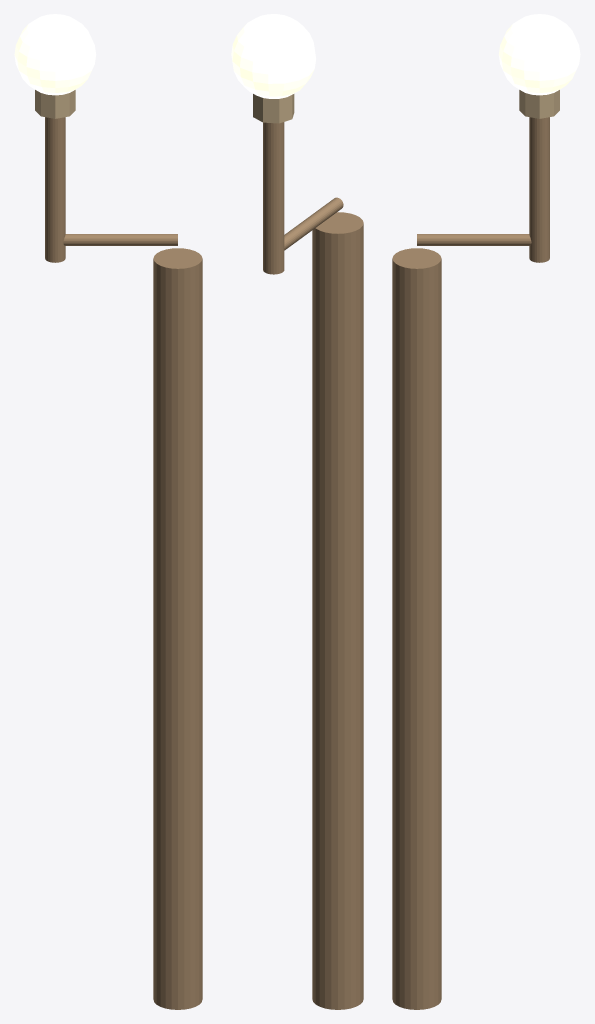
File: TorchOnPost.fbx
3 renders of one model, left to right at view 1: azimuth 90°, elevation 25°; view 2: azimuth 150°, elevation 25°; view 3: azimuth 270°, elevation 25°, orthographic. The views are drawn at different scales.
Visible parts, largest first — view 1: TorchOnPost; view 2: TorchOnPost; view 3: TorchOnPost.
Part boxes in pixels (x1,y1,x2,y2): TorchOnPost: (14,14,202,1009); TorchOnPost: (231,14,363,1009); TorchOnPost: (392,14,580,1009).
Size of the model in its own units: 20 by 265 by 46.
